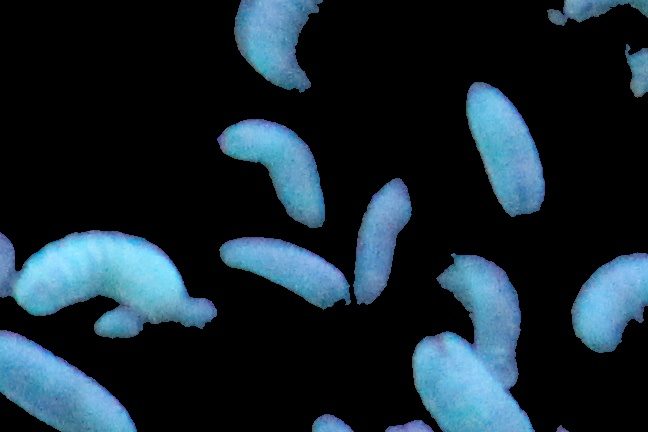larvae: (9, 216, 191, 327), (214, 106, 336, 244), (457, 72, 560, 224), (1, 335, 145, 430), (212, 222, 349, 318), (439, 249, 529, 381), (410, 340, 535, 432), (345, 168, 416, 318), (225, 1, 324, 94), (563, 248, 648, 356)
